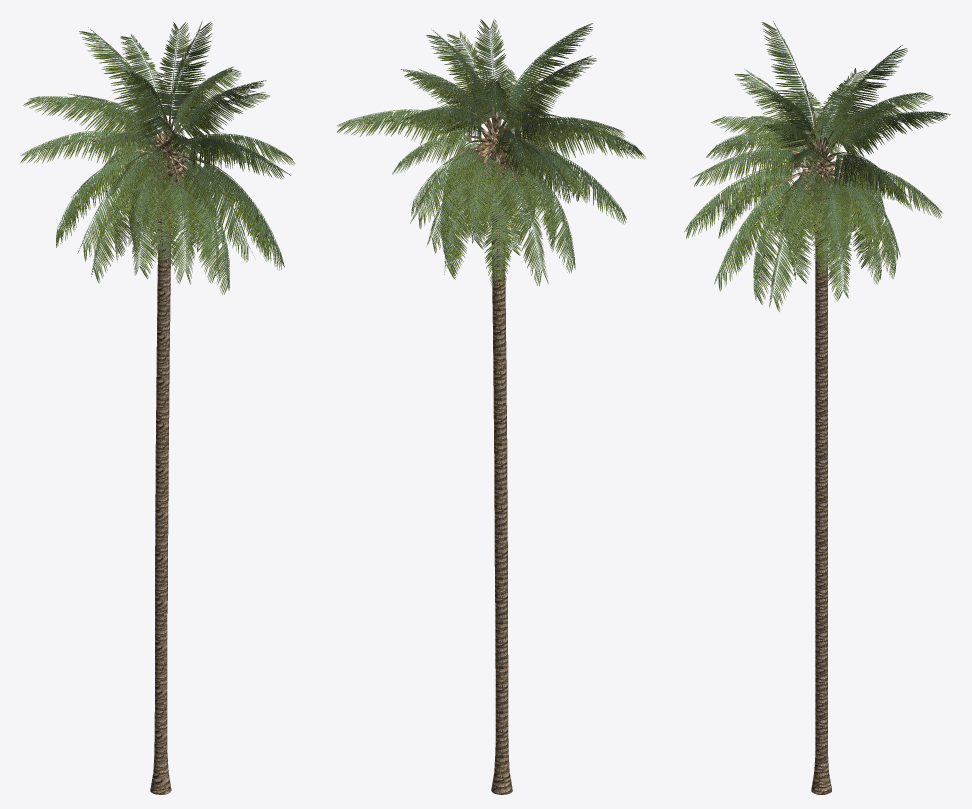
File: palm2.gltf
The picture shows the model from 3 angles, left to right: view 1: azimuth 30°, elevation 25°; view 2: azimuth 150°, elevation 25°; view 3: azimuth 270°, elevation 25°; orthographic projection. The views are drawn at different scales.
Visible parts, largest first — view 1: Palm_1_2; view 2: Palm_1_2; view 3: Palm_1_2.
Boxes of the visible parts, x1,y1,x2,y2 form: Palm_1_2: [20, 20, 295, 794]; Palm_1_2: [336, 19, 645, 794]; Palm_1_2: [684, 21, 950, 794].
Bounding box in the file's own units: 6.87 × 20.52 × 6.94.
3 materials, 3 textured.
